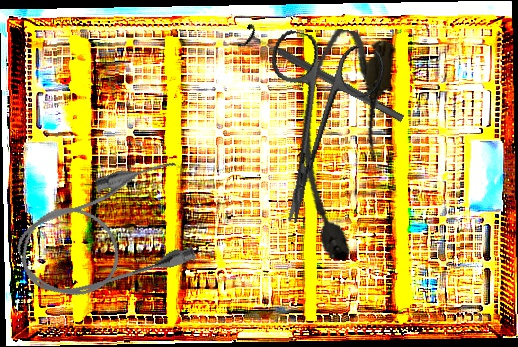Cannula: (4, 153, 207, 313), (282, 25, 398, 264)
Fixation Ring: (236, 22, 410, 132)
Iris Scissors: (233, 26, 389, 236)
